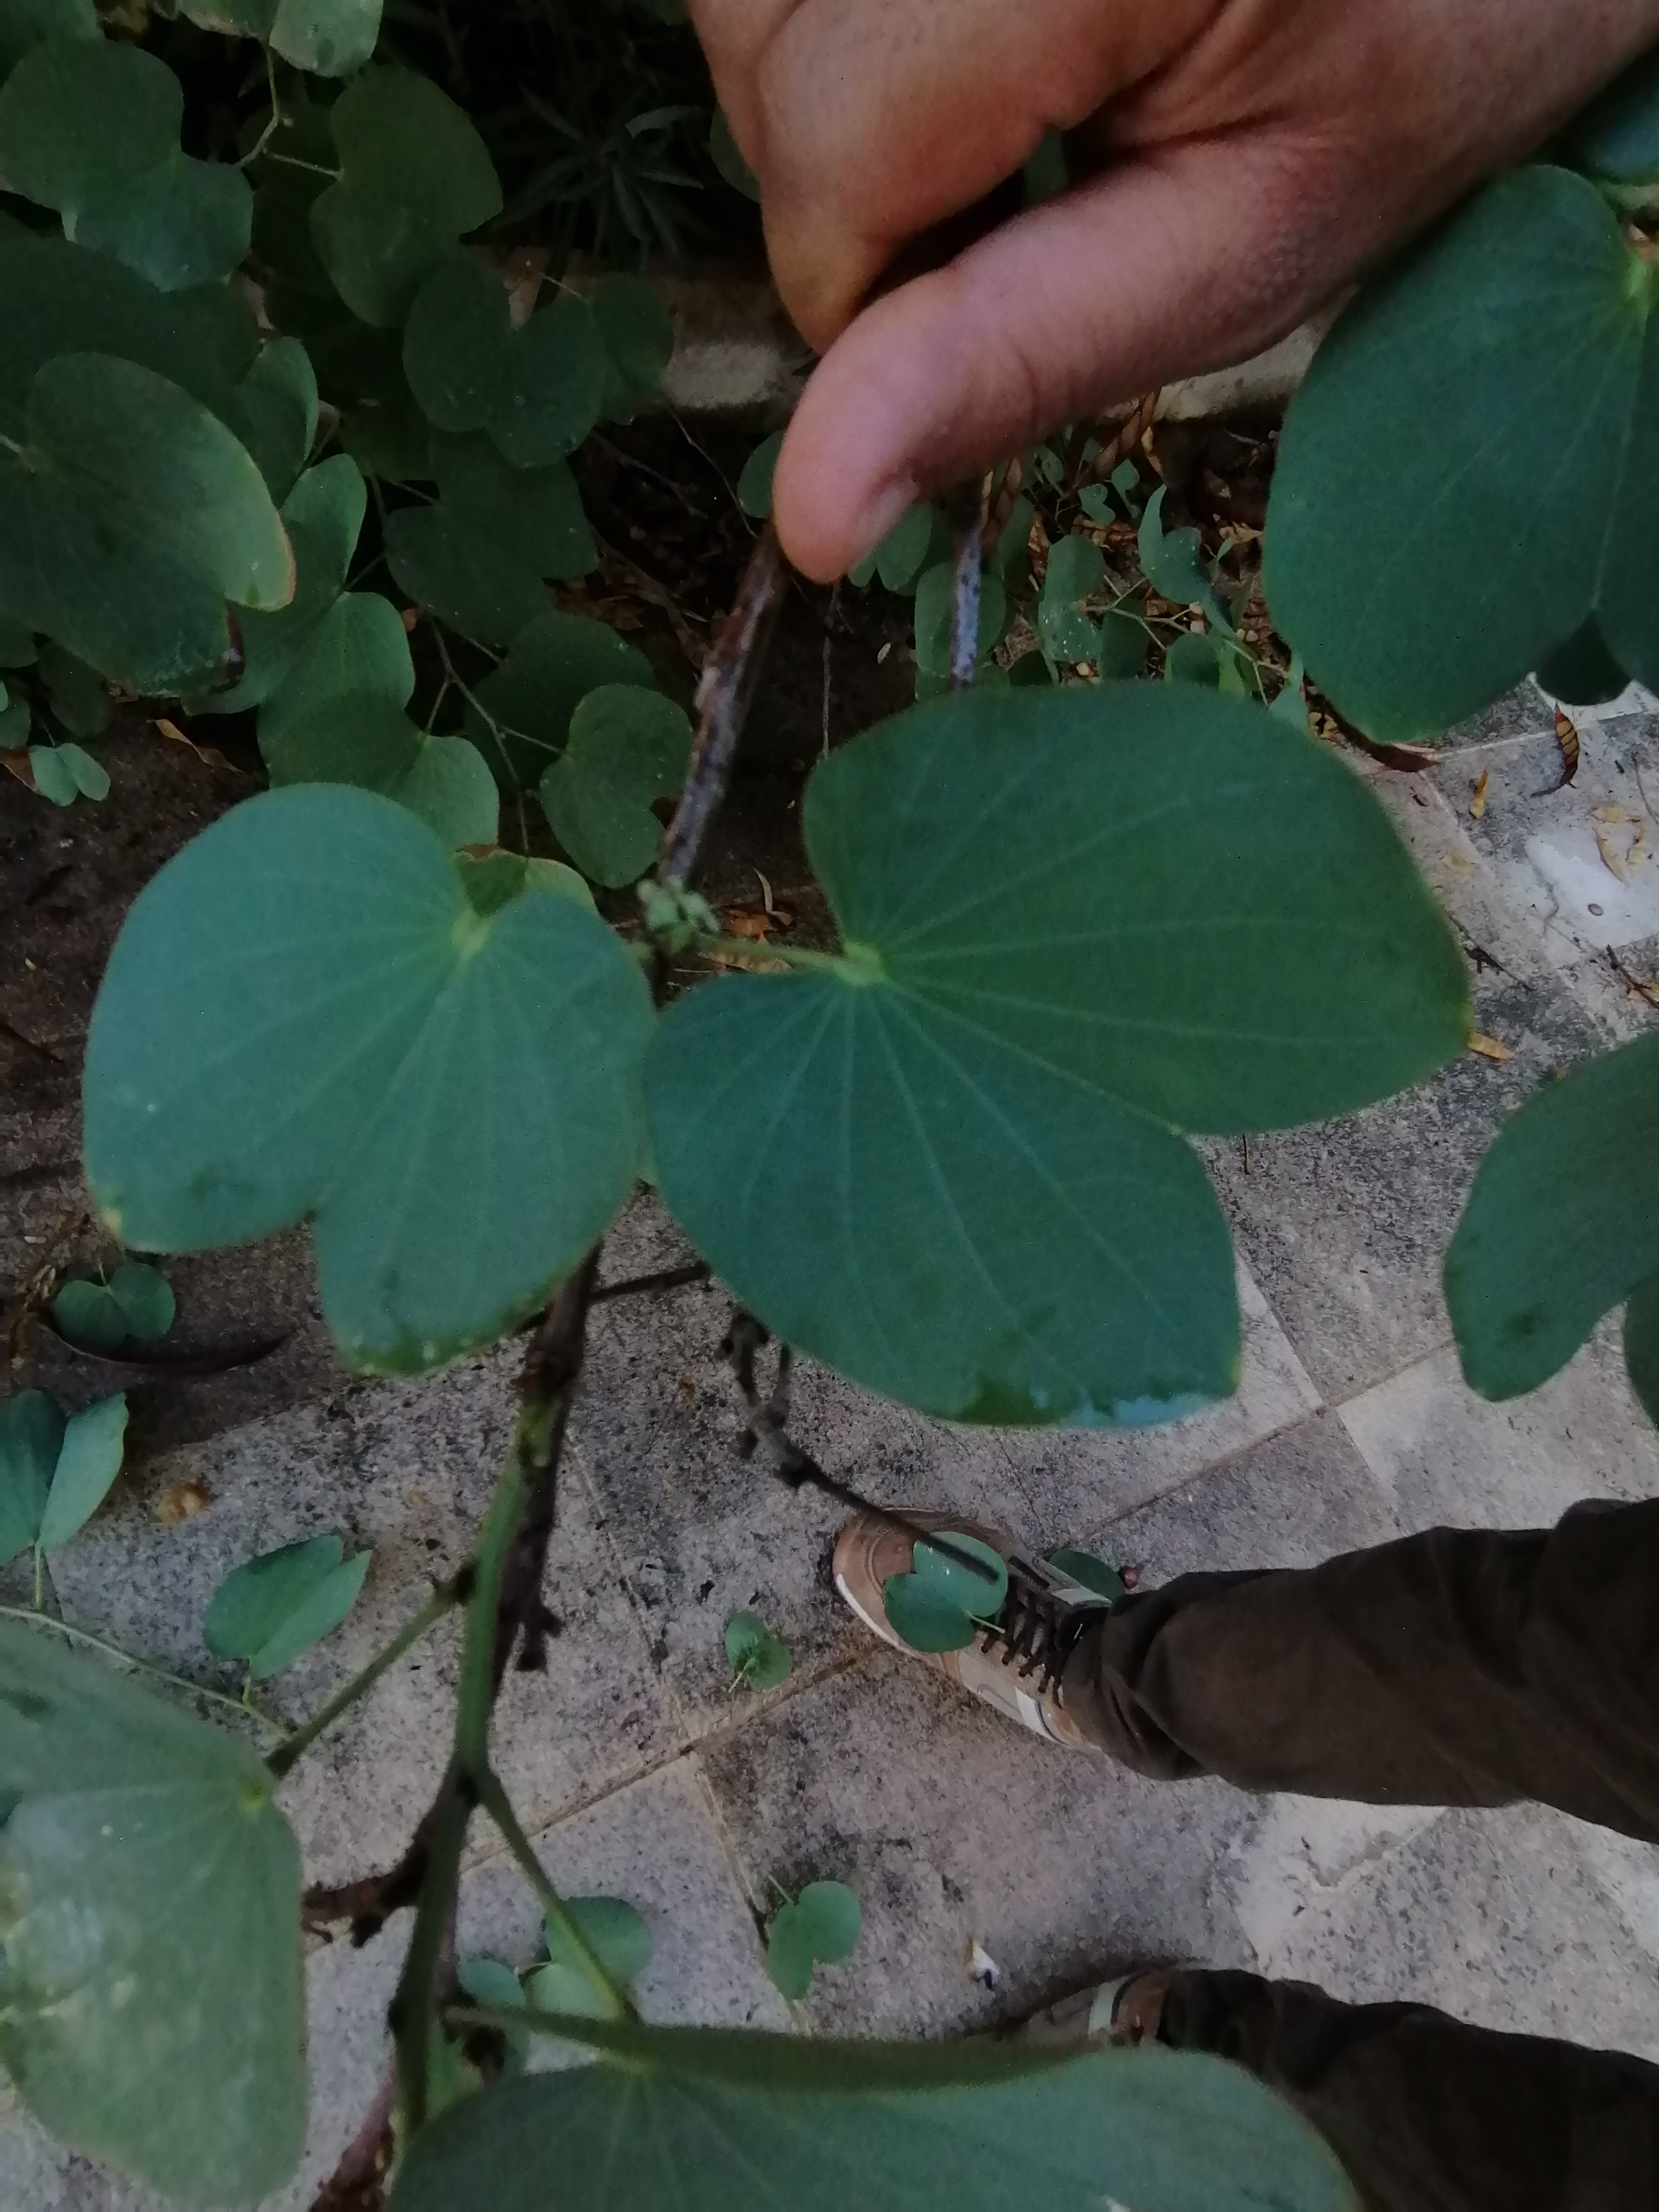healthy: (657, 709, 1398, 1409), (61, 859, 678, 1291)
